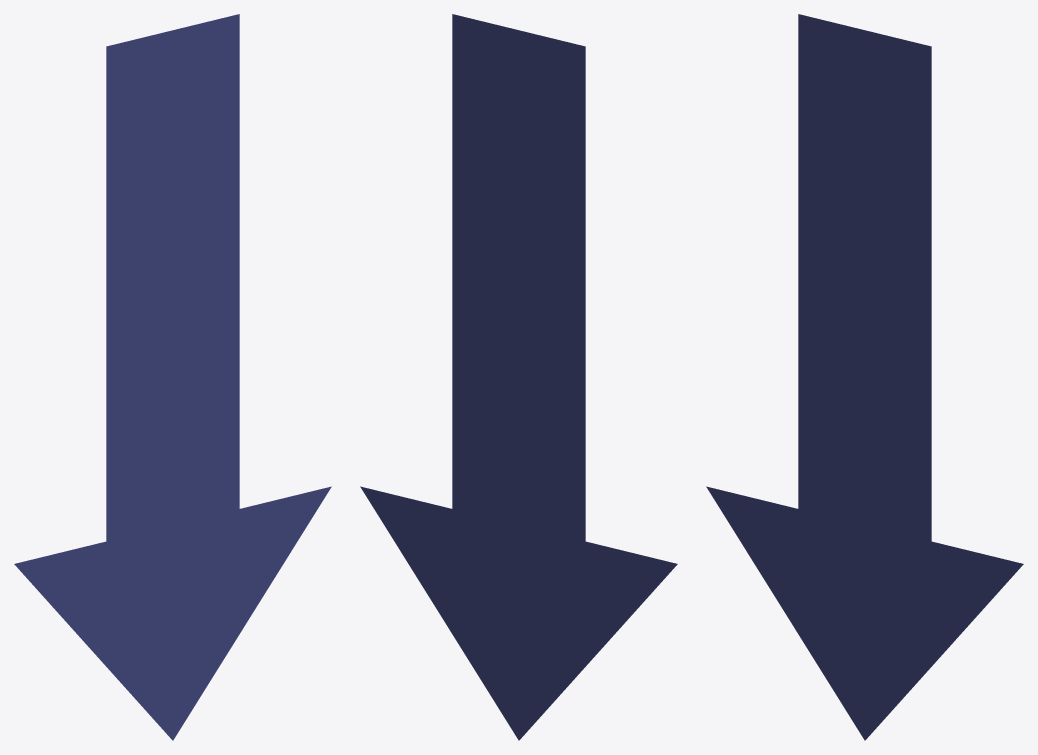
File: Arrow Gas in.fbx
The picture shows the model from 3 angles, left to right: view 1: azimuth 30°, elevation 25°; view 2: azimuth 150°, elevation 25°; view 3: azimuth 330°, elevation 25°; orthographic projection.
Visible parts, largest first — view 1: Arrow Gas in; view 2: Arrow Gas in; view 3: Arrow Gas in.
Part boxes in pixels (x1,y1,x2,y2): Arrow Gas in: (14, 14, 331, 740); Arrow Gas in: (360, 14, 677, 740); Arrow Gas in: (706, 14, 1023, 740).
Bounding box in the file's own units: 3.54 × 7.56 × 9.58e-07.
